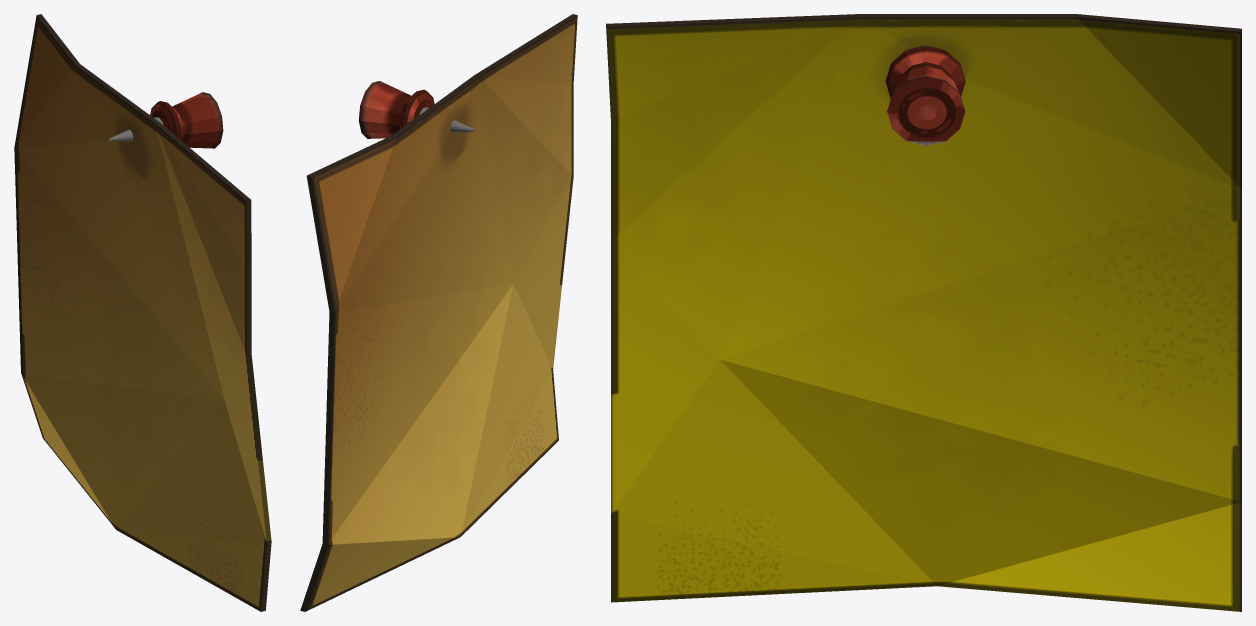
Rendered from Note Yellow.fbx.
3 renders of one model, left to right at view 1: azimuth 30°, elevation 25°; view 2: azimuth 150°, elevation 25°; view 3: azimuth 270°, elevation 25°, orthographic. The views are drawn at different scales.
Parts seen in each view (by area): view 1: NotesTexture, Pin; view 2: NotesTexture, Pin; view 3: NotesTexture, Pin.
Boxes of the visible parts, x1,y1,x2,y2 form: NotesTexture: (14, 14, 271, 611); Pin: (109, 92, 223, 148); NotesTexture: (300, 14, 577, 611); Pin: (358, 81, 474, 138); NotesTexture: (606, 14, 1241, 611); Pin: (885, 45, 965, 145).
Bounding box in the file's own units: 32.79 × 134 × 134.
2 materials, 2 textured.
